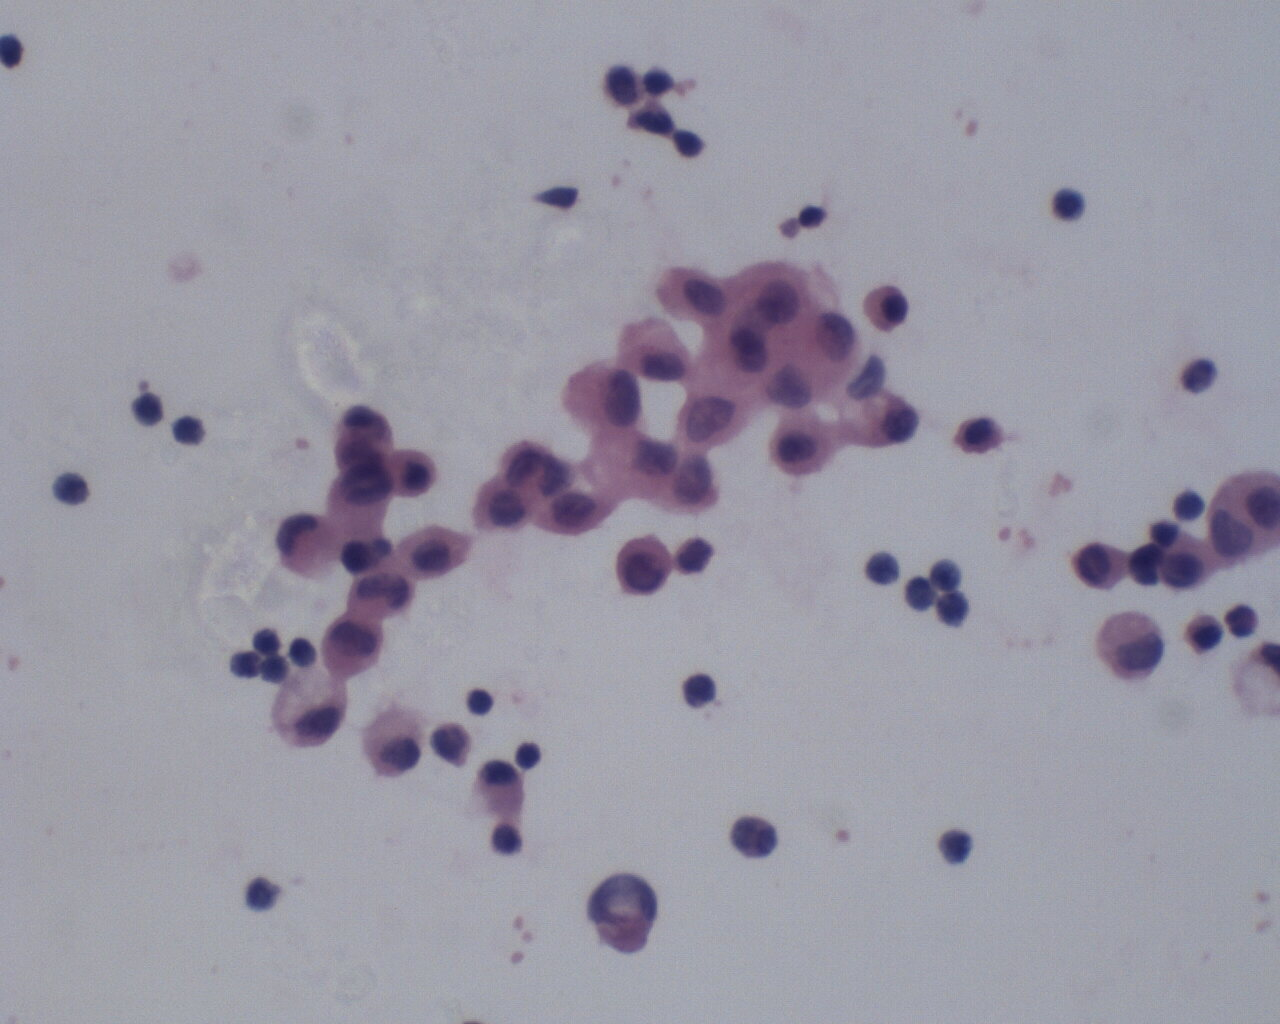ab: (609, 529, 676, 596)
lymph: (680, 670, 721, 715), (1047, 186, 1091, 227), (167, 410, 211, 450), (863, 549, 903, 589), (129, 388, 166, 429), (463, 682, 503, 718), (512, 737, 546, 773)
meso: (762, 406, 840, 479), (319, 614, 388, 683), (653, 265, 730, 326), (399, 521, 474, 581), (472, 473, 541, 537), (386, 445, 439, 504), (861, 279, 910, 332)
